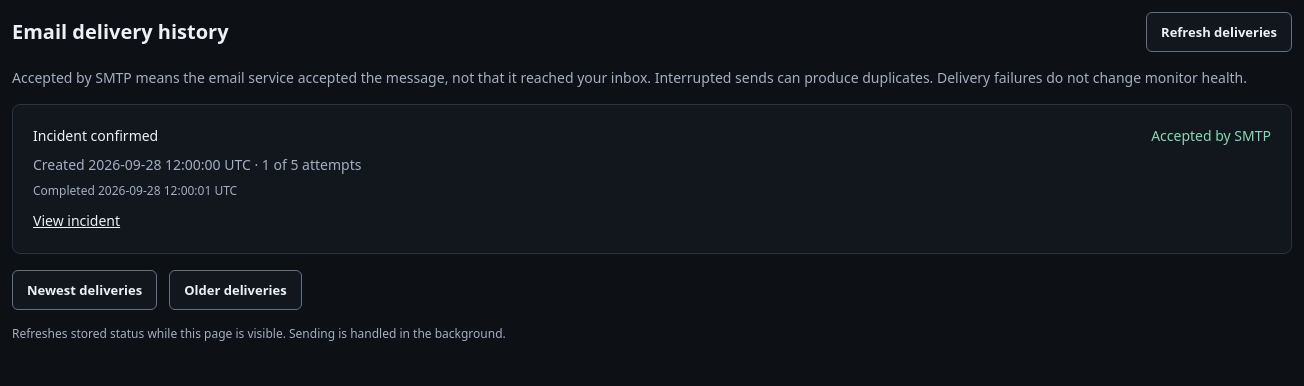
Test case: shows honest delivery states, safe failure reasons, and paging
Expected: the text "Accepted by SMTP" is shown, [1151, 125, 1271, 147]
Expected: the text "not that it reached your inbox" is shown, [12, 68, 1247, 87]
Click the button "Older deliveries".
click(235, 290)  # box [169, 270, 302, 310]
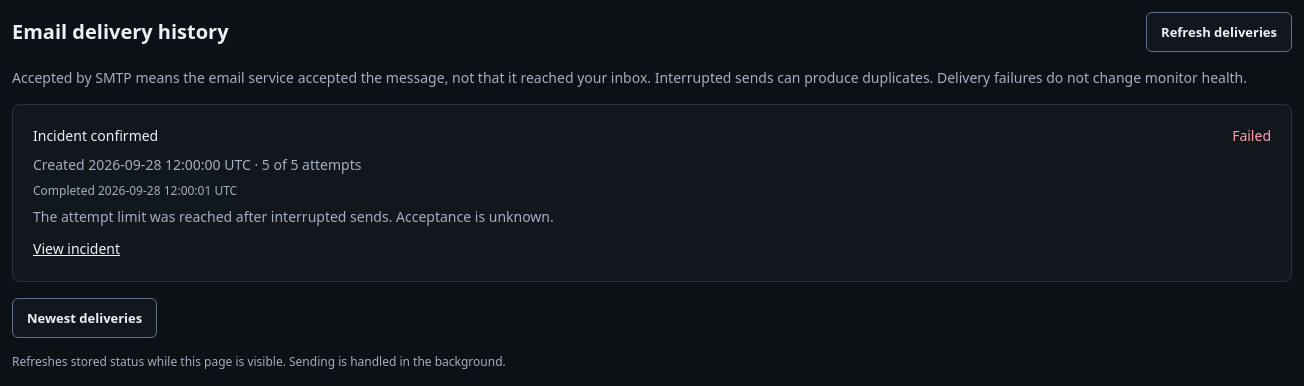
Expected: the text "Acceptance is unknown" is shown, [33, 207, 554, 226]
Expected: the text "Created 2026-09-28 12:00:00 UTC · 5 of 5 attempts" is shown, [33, 155, 361, 174]
